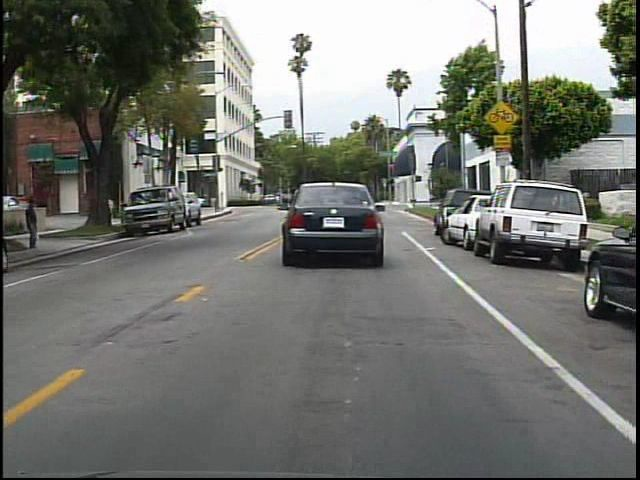person: (25, 196, 45, 253)
